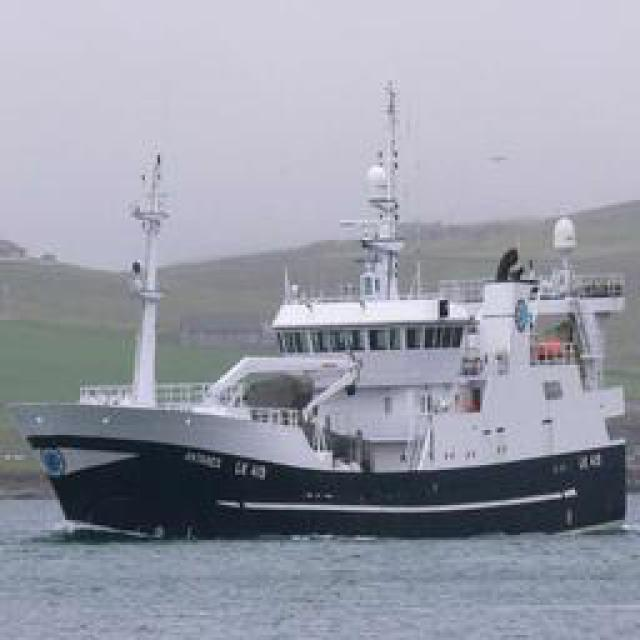Ship: (16, 111, 631, 546)
